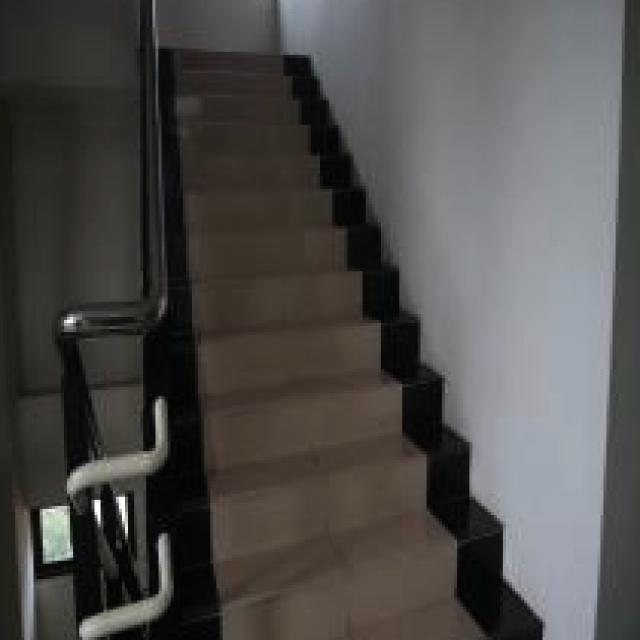upstair: (156, 77, 516, 640)
